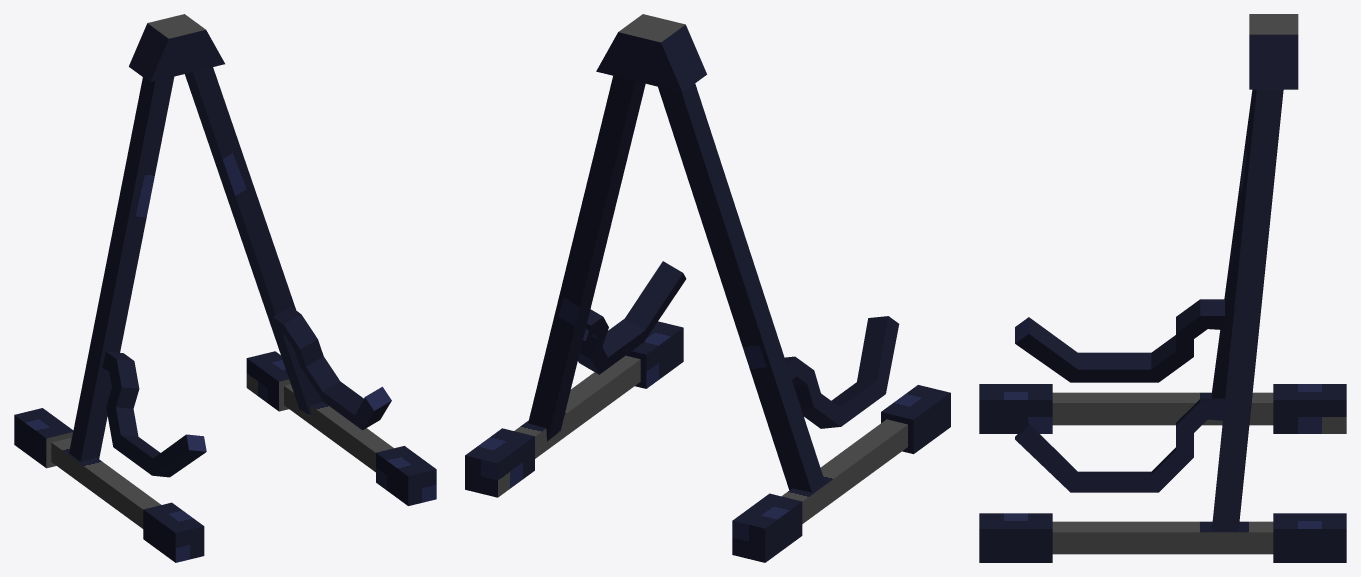
File: SM_GStand.fbx
The picture shows the model from 3 angles, left to right: view 1: azimuth 30°, elevation 25°; view 2: azimuth 150°, elevation 25°; view 3: azimuth 270°, elevation 25°; orthographic projection. The views are drawn at different scales.
Parts seen in each view (by area): view 1: GStand.001; view 2: GStand.001; view 3: GStand.001.
Part boxes in pixels (bbox=[...]): GStand.001: bbox=[14, 14, 436, 562]; GStand.001: bbox=[465, 14, 950, 562]; GStand.001: bbox=[979, 14, 1346, 562].
Bounding box in the file's own units: 43.75 × 65.63 × 46.88.
